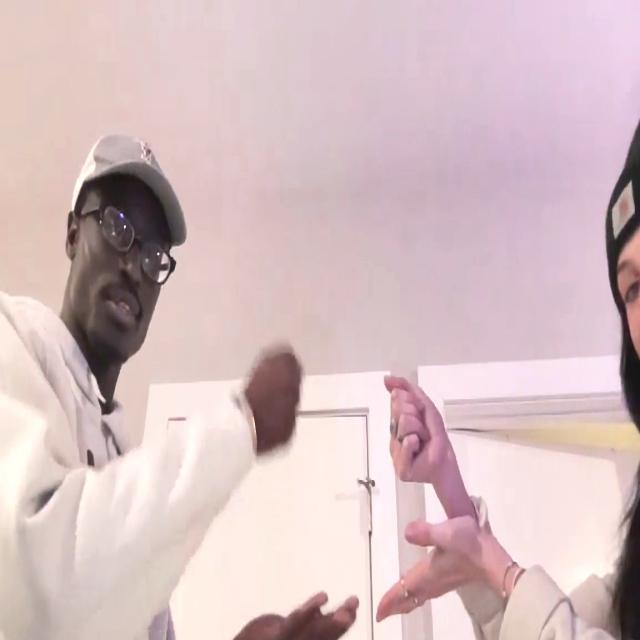Rock: (386, 375, 448, 489), (250, 344, 303, 449)
